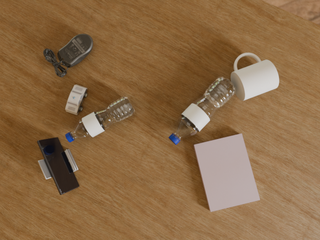book: (193, 134, 260, 212)
bottle: (169, 76, 236, 145), (65, 96, 135, 142)
cup: (231, 53, 279, 101)
mouse: (43, 34, 93, 77)
phone: (37, 137, 79, 195)
toy_car: (65, 85, 87, 115)
